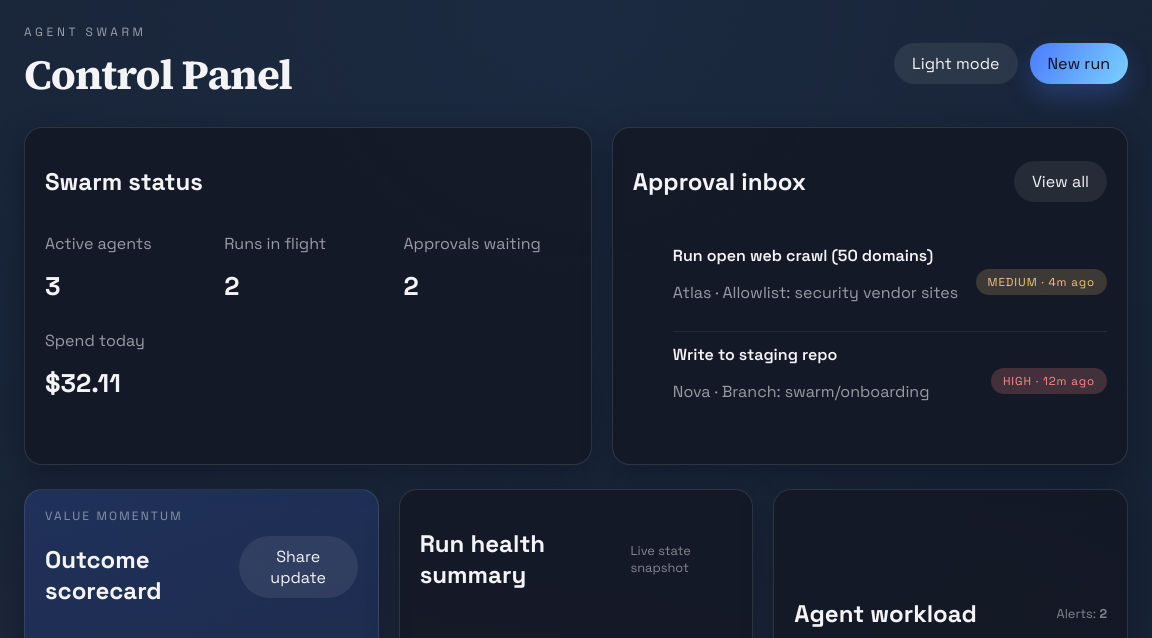
Test: queues quick runs from top bar and runs panel actions
The width and height of the screenshot is (1152, 638).
Click the button "New run" at (1079, 64), box [1030,43,1128,84]
(page scrolled)
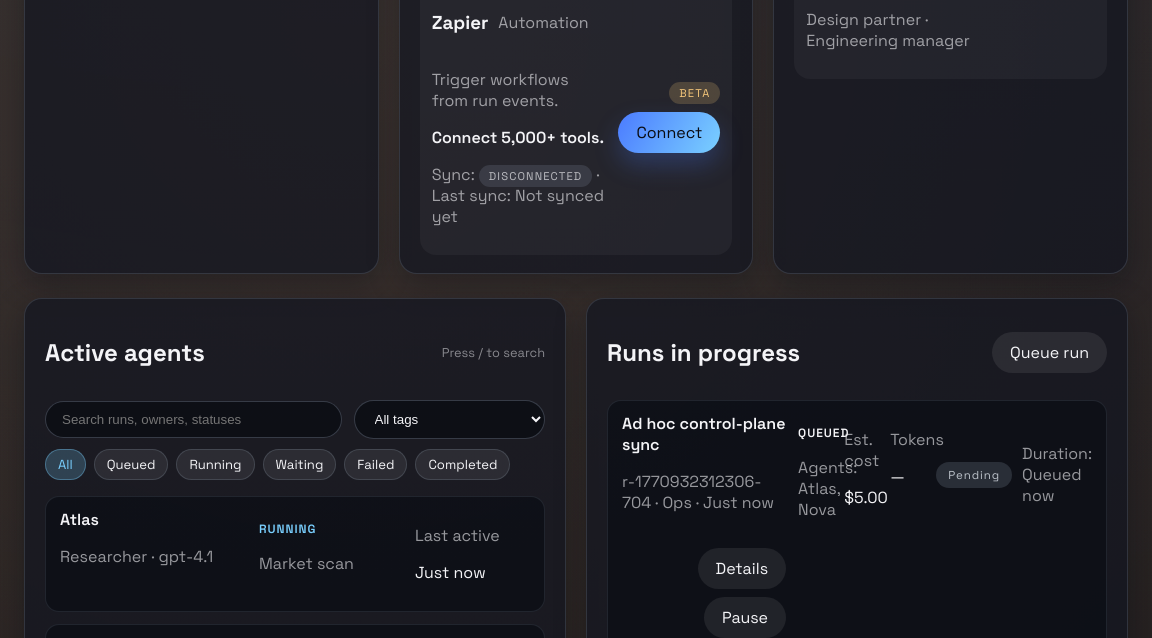
Expected: the text "Runs in progress" is shown, [607,337,800,368]
Now the text "Ad hoc control-plane sync" is shown once, box [622,413,786,455]
Click the button "Queue run" at (1050, 353), box [992,332,1107,373]
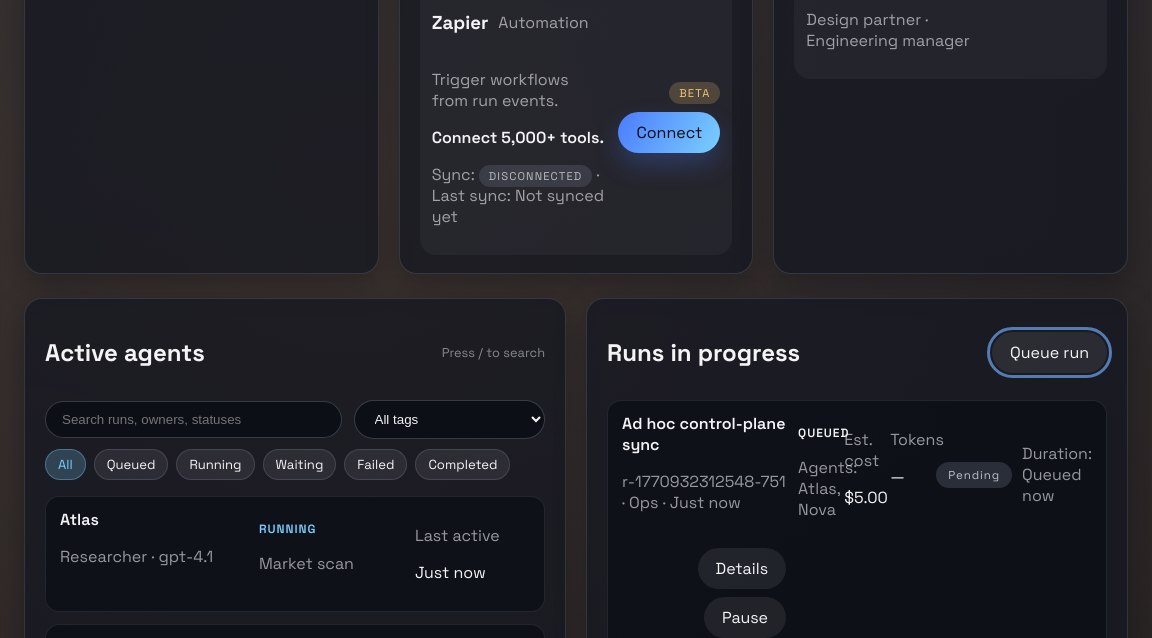
Now the text "Ad hoc control-plane sync" is shown 2 times
